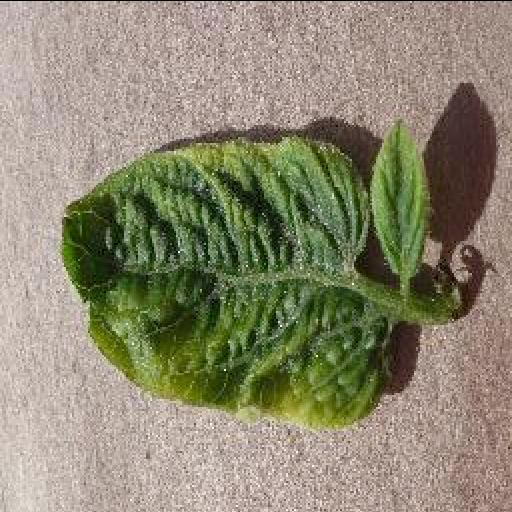disease_tomato: (54, 141, 392, 430), (371, 118, 429, 273)
